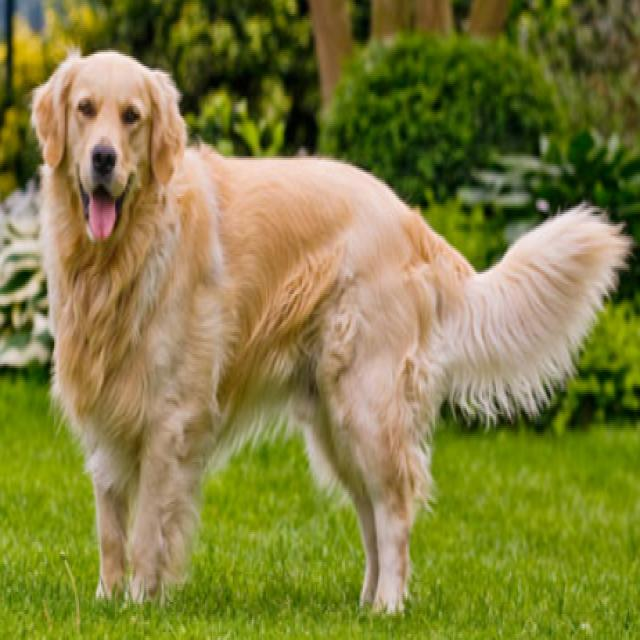golden: (37, 50, 624, 616)
